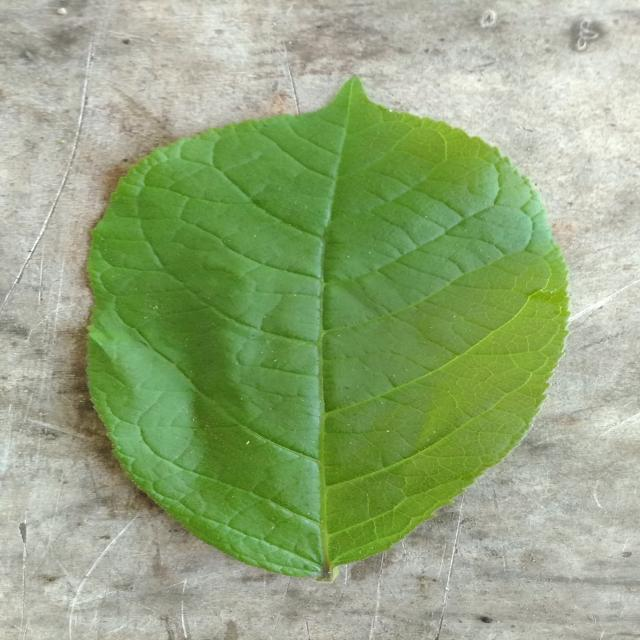padri: (89, 79, 569, 579)
